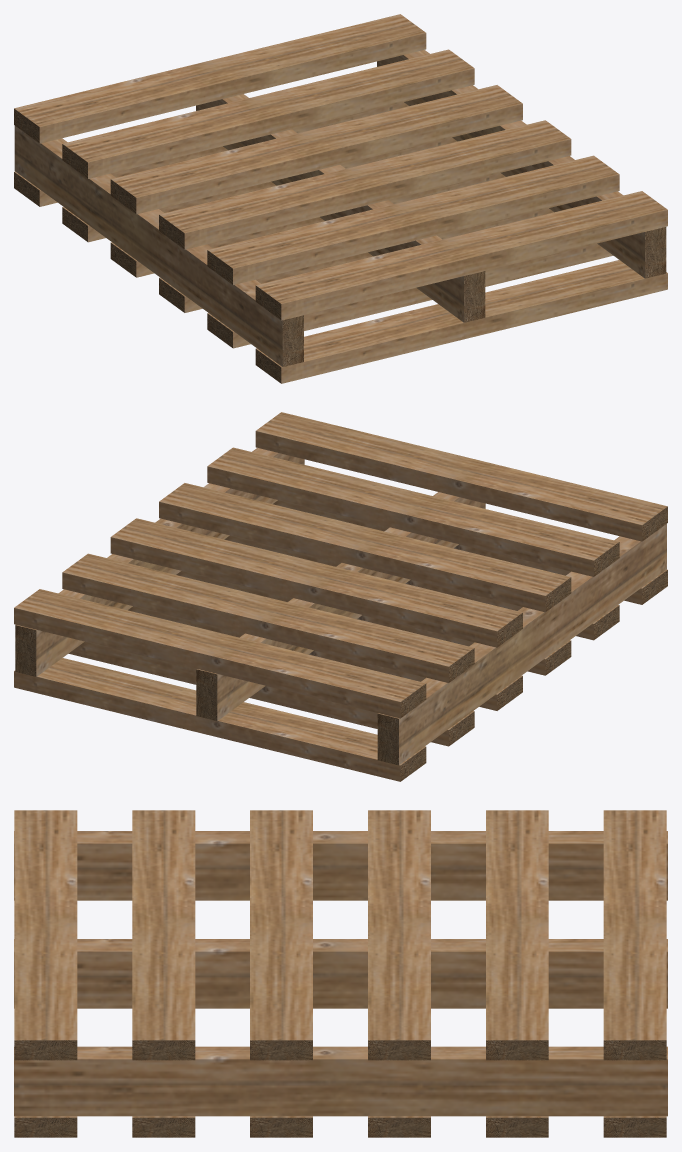
File: WoodPallets.fbx
3 renders of one model, top to bottom at view 1: azimuth 30°, elevation 25°; view 2: azimuth 150°, elevation 25°; view 3: azimuth 270°, elevation 25°, orthographic. The views are drawn at different scales.
Visible parts, largest first — view 1: Cube.018, Cube.005, Cube.016, Cube.017, Cube.015, Cube.019, Cube.010, Cube.001, Cube.002, Cube.006, Cube.011, Cube.004 (+3 smaller); view 2: Cube.015, Cube.016, Cube.017, Cube.019, Cube.018, Cube.005, Cube.010, Cube.009, Cube.008, Cube.006, Cube.011, Cube.003 (+3 smaller); view 3: Cube.006, Cube.010, Cube.011, Cube.005, Cube.015, Cube.019, Cube.016, Cube.017, Cube.018, Cube.001, Cube.002, Cube.009 (+3 smaller).
Boxes of the visible parts, x1=… form: Cube.018: x1=62, y1=49, x2=474, y2=178; Cube.005: x1=255, y1=191, x2=667, y2=320; Cube.016: x1=159, y1=120, x2=571, y2=249; Cube.017: x1=110, y1=85, x2=522, y2=214; Cube.015: x1=207, y1=155, x2=619, y2=284; Cube.019: x1=14, y1=14, x2=426, y2=143; Cube.010: x1=14, y1=125, x2=303, y2=366; Cube.001: x1=255, y1=260, x2=667, y2=383; Cube.002: x1=207, y1=243, x2=613, y2=348; Cube.006: x1=377, y1=50, x2=666, y2=278; Cube.011: x1=196, y1=94, x2=485, y2=322; Cube.004: x1=110, y1=173, x2=505, y2=277; Cube.015: x1=207, y1=447, x2=619, y2=576; Cube.016: x1=159, y1=483, x2=571, y2=612; Cube.017: x1=110, y1=518, x2=522, y2=647; Cube.019: x1=14, y1=589, x2=426, y2=718; Cube.018: x1=62, y1=553, x2=474, y2=682; Cube.005: x1=255, y1=412, x2=667, y2=541; Cube.010: x1=377, y1=524, x2=666, y2=765; Cube.009: x1=14, y1=658, x2=426, y2=781; Cube.008: x1=68, y1=641, x2=474, y2=746; Cube.006: x1=15, y1=448, x2=304, y2=676; Cube.011: x1=196, y1=492, x2=485, y2=720; Cube.003: x1=176, y1=571, x2=571, y2=675; Cube.006: x1=14, y1=1046, x2=667, y2=1116; Cube.010: x1=14, y1=831, x2=667, y2=900; Cube.011: x1=14, y1=939, x2=667, y2=1008; Cube.005: x1=14, y1=810, x2=77, y2=1060; Cube.015: x1=132, y1=810, x2=195, y2=1060; Cube.019: x1=603, y1=810, x2=666, y2=1060; Cube.016: x1=250, y1=810, x2=312, y2=1060; Cube.017: x1=368, y1=810, x2=430, y2=1060; Cube.018: x1=486, y1=810, x2=548, y2=1060; Cube.001: x1=14, y1=1116, x2=77, y2=1137; Cube.002: x1=132, y1=1116, x2=195, y2=1137; Cube.009: x1=603, y1=1116, x2=666, y2=1137.
Bounding box in the file's own units: 924 × 182 × 1110.
1 material, 1 textured.
